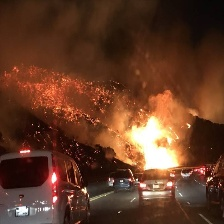fire: (22, 69, 117, 126), (132, 116, 181, 170)
smoke: (5, 2, 224, 87)
